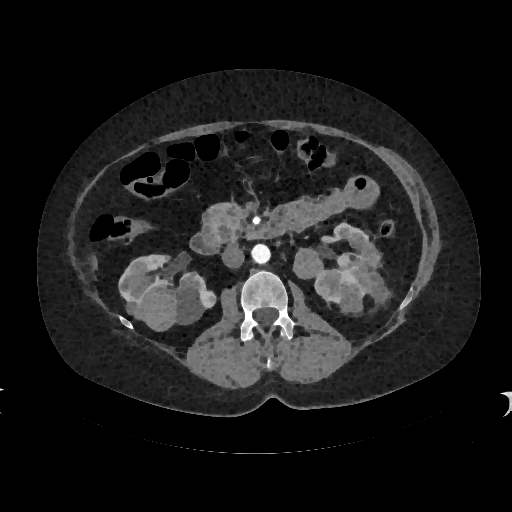Lesion: (198, 287, 218, 316)
